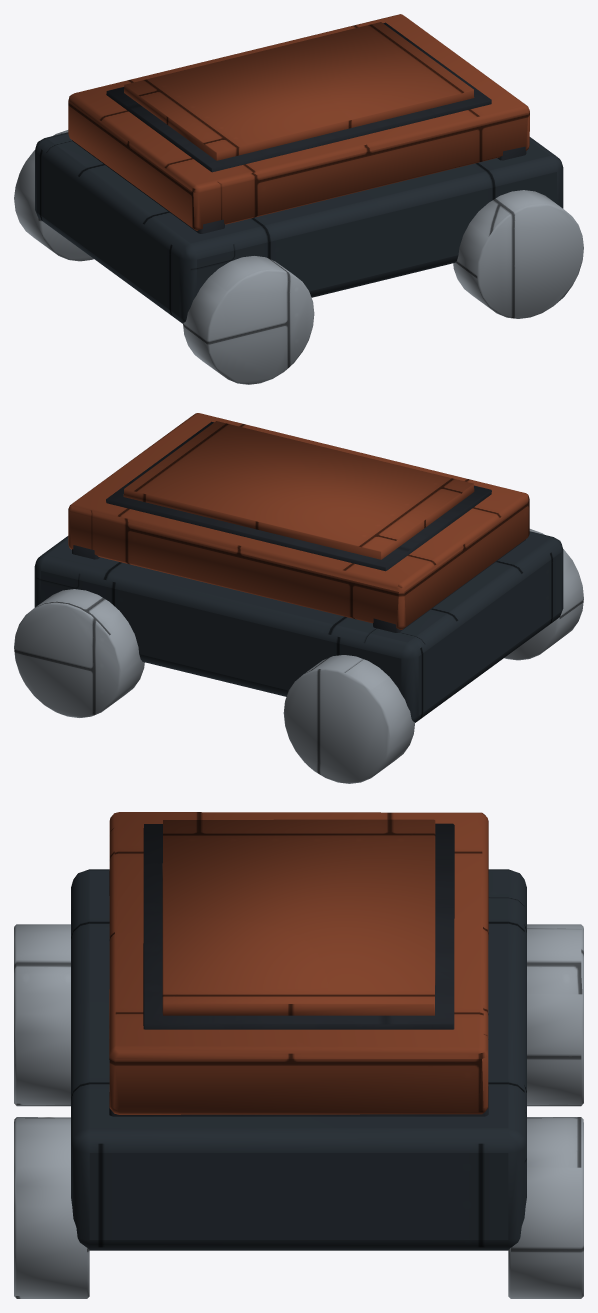
Rendered from ops_rail_carriage_lod1.glb.
3 renders of one model, top to bottom at view 1: azimuth 30°, elevation 25°; view 2: azimuth 150°, elevation 25°; view 3: azimuth 270°, elevation 25°, orthographic. The views are drawn at different scales.
Visible parts, largest first — view 1: LOD1_MOTION_CARRIAGE_TRANSLATION_Hull, LOD1_MOTION_CARRIAGE_TRANSLATION_Armor, LOD1_MOTION_CARRIAGE_TRANSLATION_BrushedMetal, LOD1_MOTION_CARRIAGE_TRANSLATION_MechanicalDark; view 2: LOD1_MOTION_CARRIAGE_TRANSLATION_Hull, LOD1_MOTION_CARRIAGE_TRANSLATION_Armor, LOD1_MOTION_CARRIAGE_TRANSLATION_BrushedMetal, LOD1_MOTION_CARRIAGE_TRANSLATION_MechanicalDark; view 3: LOD1_MOTION_CARRIAGE_TRANSLATION_Hull, LOD1_MOTION_CARRIAGE_TRANSLATION_Armor, LOD1_MOTION_CARRIAGE_TRANSLATION_BrushedMetal, LOD1_MOTION_CARRIAGE_TRANSLATION_MechanicalDark.
Boxes of the visible parts, <box> form: LOD1_MOTION_CARRIAGE_TRANSLATION_Hull: <box>68,14,529,230</box>; LOD1_MOTION_CARRIAGE_TRANSLATION_Armor: <box>35,132,563,323</box>; LOD1_MOTION_CARRIAGE_TRANSLATION_BrushedMetal: <box>14,130,583,384</box>; LOD1_MOTION_CARRIAGE_TRANSLATION_MechanicalDark: <box>72,22,526,233</box>; LOD1_MOTION_CARRIAGE_TRANSLATION_Hull: <box>68,413,529,629</box>; LOD1_MOTION_CARRIAGE_TRANSLATION_Armor: <box>34,531,563,722</box>; LOD1_MOTION_CARRIAGE_TRANSLATION_BrushedMetal: <box>14,529,583,783</box>; LOD1_MOTION_CARRIAGE_TRANSLATION_MechanicalDark: <box>72,421,525,632</box>; LOD1_MOTION_CARRIAGE_TRANSLATION_Hull: <box>109,812,488,1114</box>; LOD1_MOTION_CARRIAGE_TRANSLATION_Armor: <box>71,869,526,1250</box>; LOD1_MOTION_CARRIAGE_TRANSLATION_BrushedMetal: <box>14,924,583,1298</box>; LOD1_MOTION_CARRIAGE_TRANSLATION_MechanicalDark: <box>109,823,488,1116</box>.
Bounding box in the file's own units: 1.7 × 0.8198 × 1.5.
4 materials, 4 textured.
